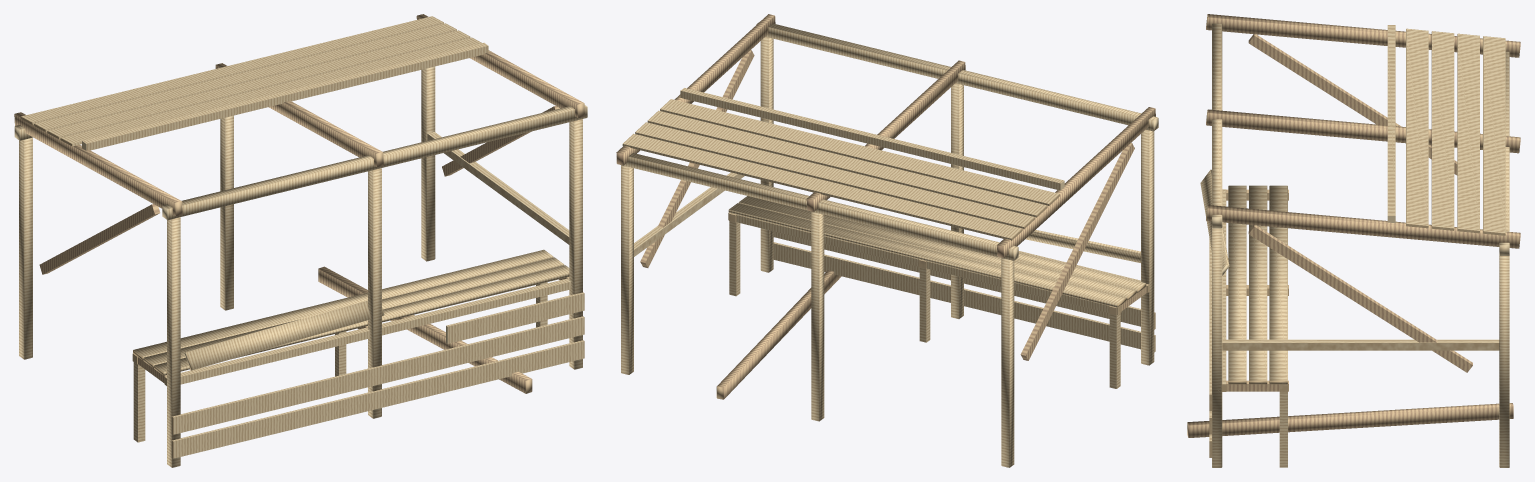
The model's file is Works_StallFrame.fbx.
3 renders of one model, left to right at view 1: azimuth 30°, elevation 25°; view 2: azimuth 150°, elevation 25°; view 3: azimuth 270°, elevation 25°, orthographic. The views are drawn at different scales.
Parts seen in each view (by area): view 1: Body; view 2: Body; view 3: Body.
Part boxes in pixels (x1=…): Body: x1=14, y1=14, x2=587, y2=467; Body: x1=616, y1=14, x2=1158, y2=467; Body: x1=1187, y1=14, x2=1520, y2=467.
Size of the model in its own units: 4.6 by 2.79 by 3.25.
1 material, 1 textured.
